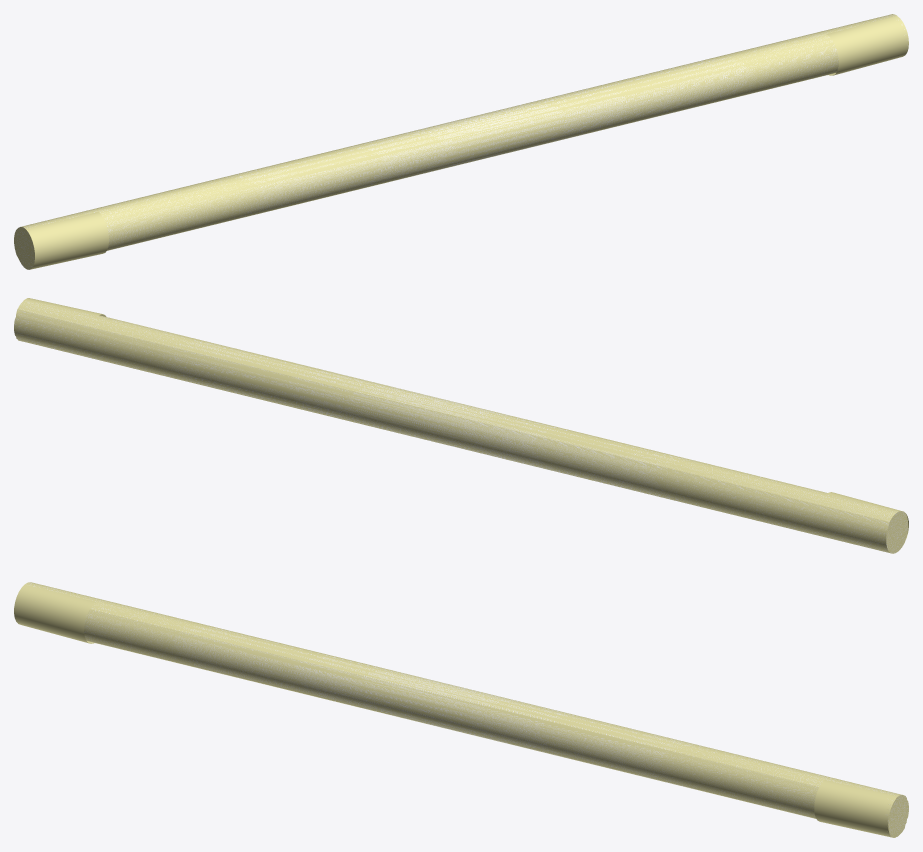
File: original-1.obj
3 renders of one model, top to bottom at view 1: azimuth 30°, elevation 25°; view 2: azimuth 150°, elevation 25°; view 3: azimuth 330°, elevation 25°, orthographic.
Visible parts, largest first — view 1: Group1/mesh1/mesh1-geometry#mesh1-geometry; view 2: Group1/mesh1/mesh1-geometry#mesh1-geometry; view 3: Group1/mesh1/mesh1-geometry#mesh1-geometry.
Part boxes in pixels (box(x1,y1,x2,y2)): Group1/mesh1/mesh1-geometry#mesh1-geometry: box(14, 14, 908, 269); Group1/mesh1/mesh1-geometry#mesh1-geometry: box(14, 298, 908, 553); Group1/mesh1/mesh1-geometry#mesh1-geometry: box(14, 582, 908, 837).
Size of the model in its own units: 0.4037 by 0.0176 by 0.0191.
